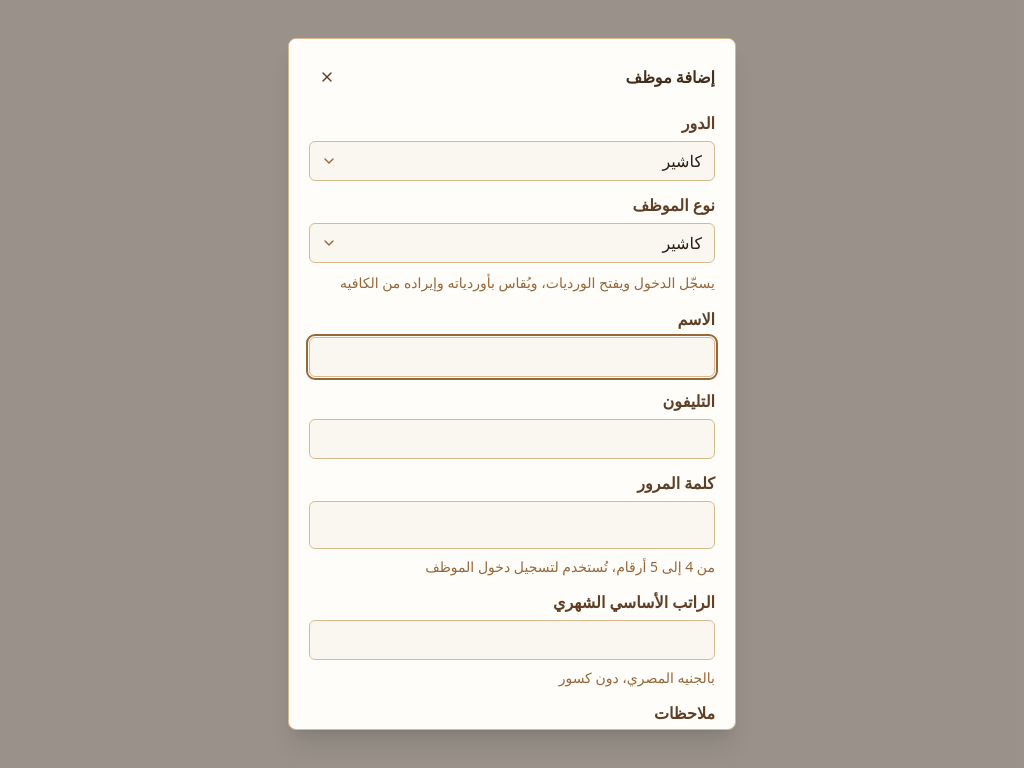
Test: EmployeeDialog — create › does not show the employee type for a wash worker, and offers no password
The width and height of the screenshot is (1024, 768).
Select "عامل مغسلة" in the dropdown labelled "الدور" at [512, 161], box [309,141,715,181]
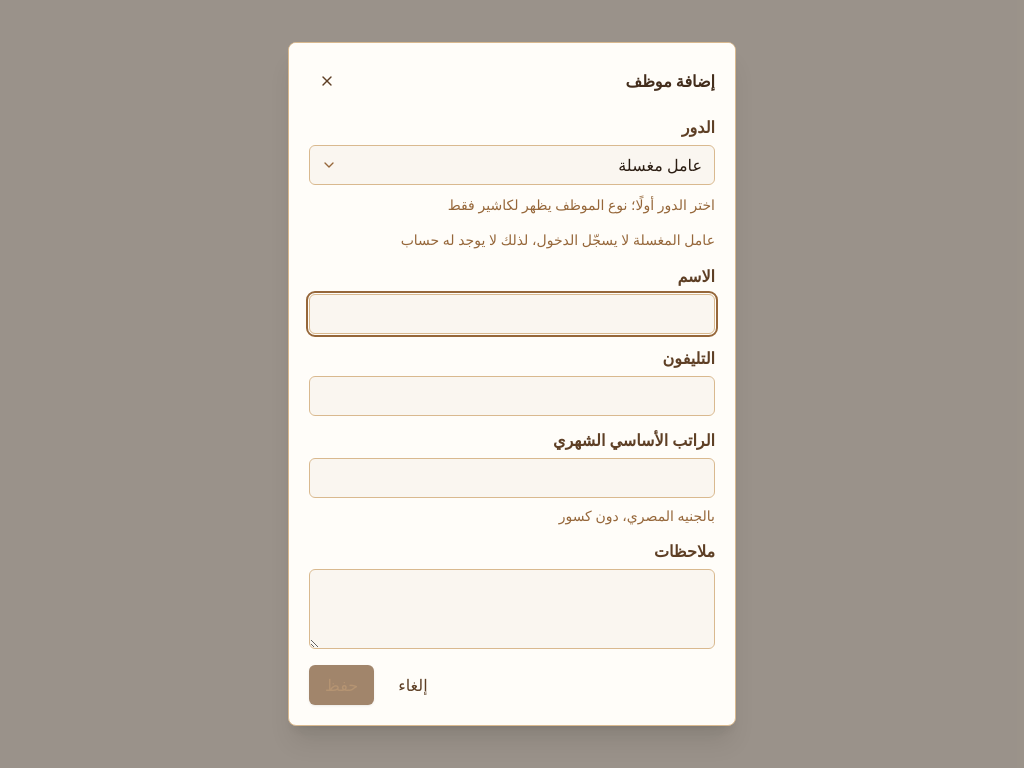
Now the label labelled "كلمة المرور" is gone
